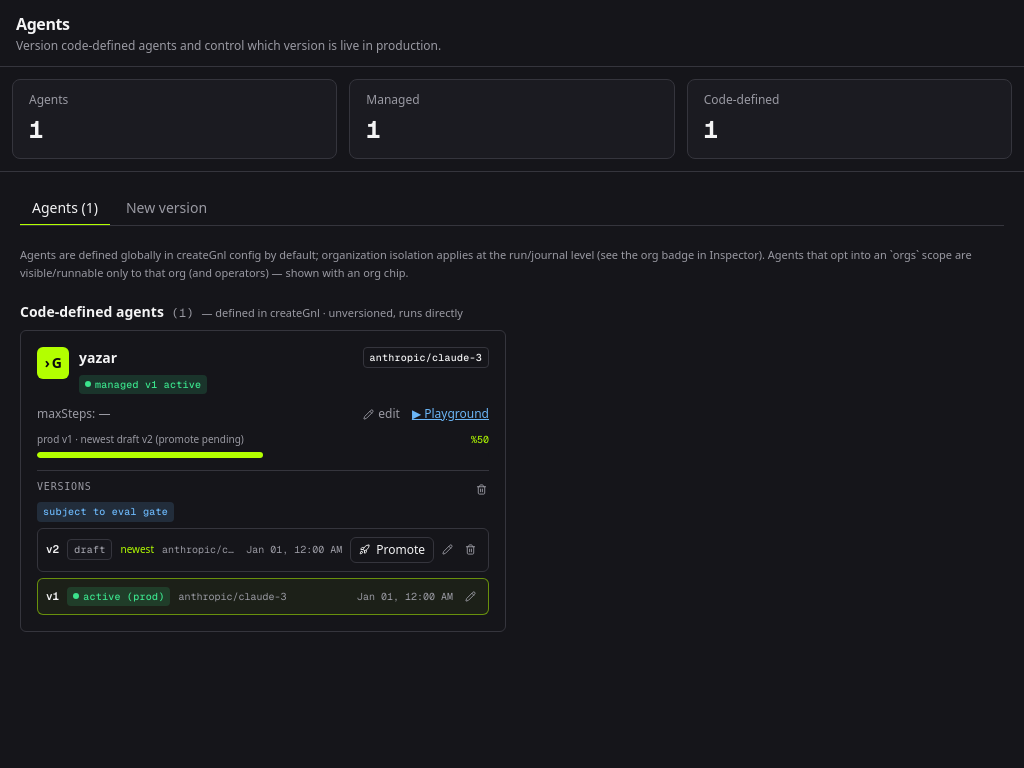
Scenario: Agents: promote eval-gate (412) UI › when promote is rejected with 412, shows a score table instead of a single line (passing+failing scorers, threshold, status badge)
Expected: the text "yazar" is shown, [79, 348, 117, 368]
Click the button "Promote" at (392, 550), box [350, 536, 434, 562]
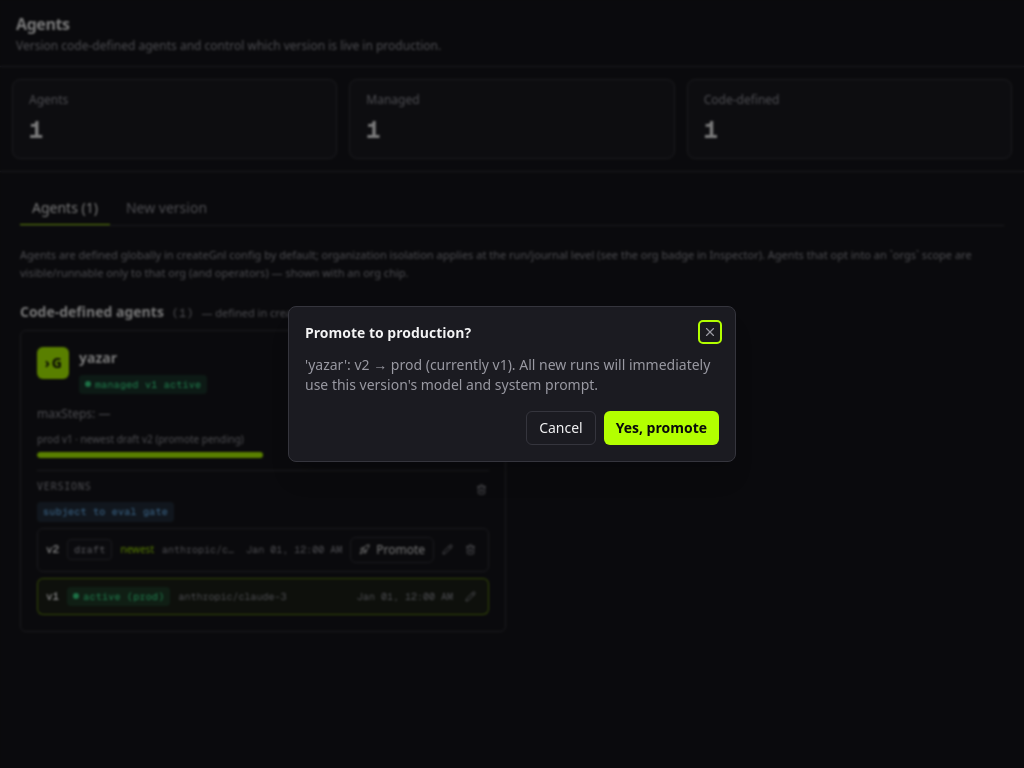
Click the button "Yes, promote" at (661, 428), box [604, 411, 719, 445]
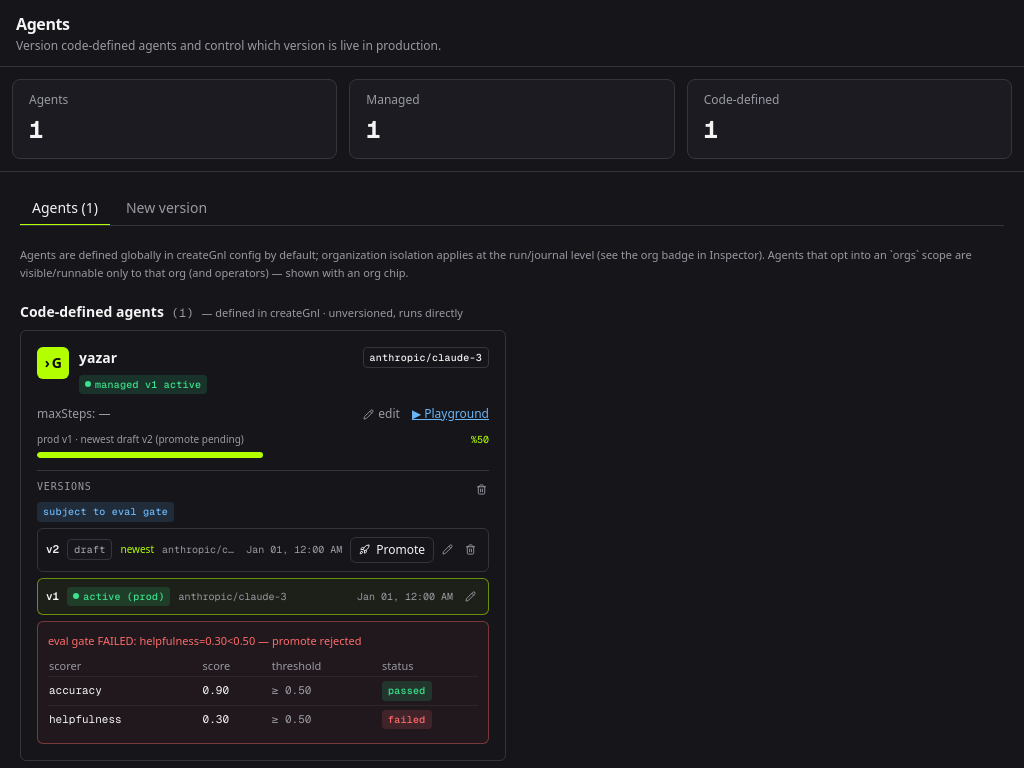
Expected: the text "helpfulness" is shown, [48, 705, 202, 733]
Expected: the text "accuracy" is shown, [48, 677, 202, 705]
Expected: the text "0.30" is shown, [202, 705, 271, 733]
